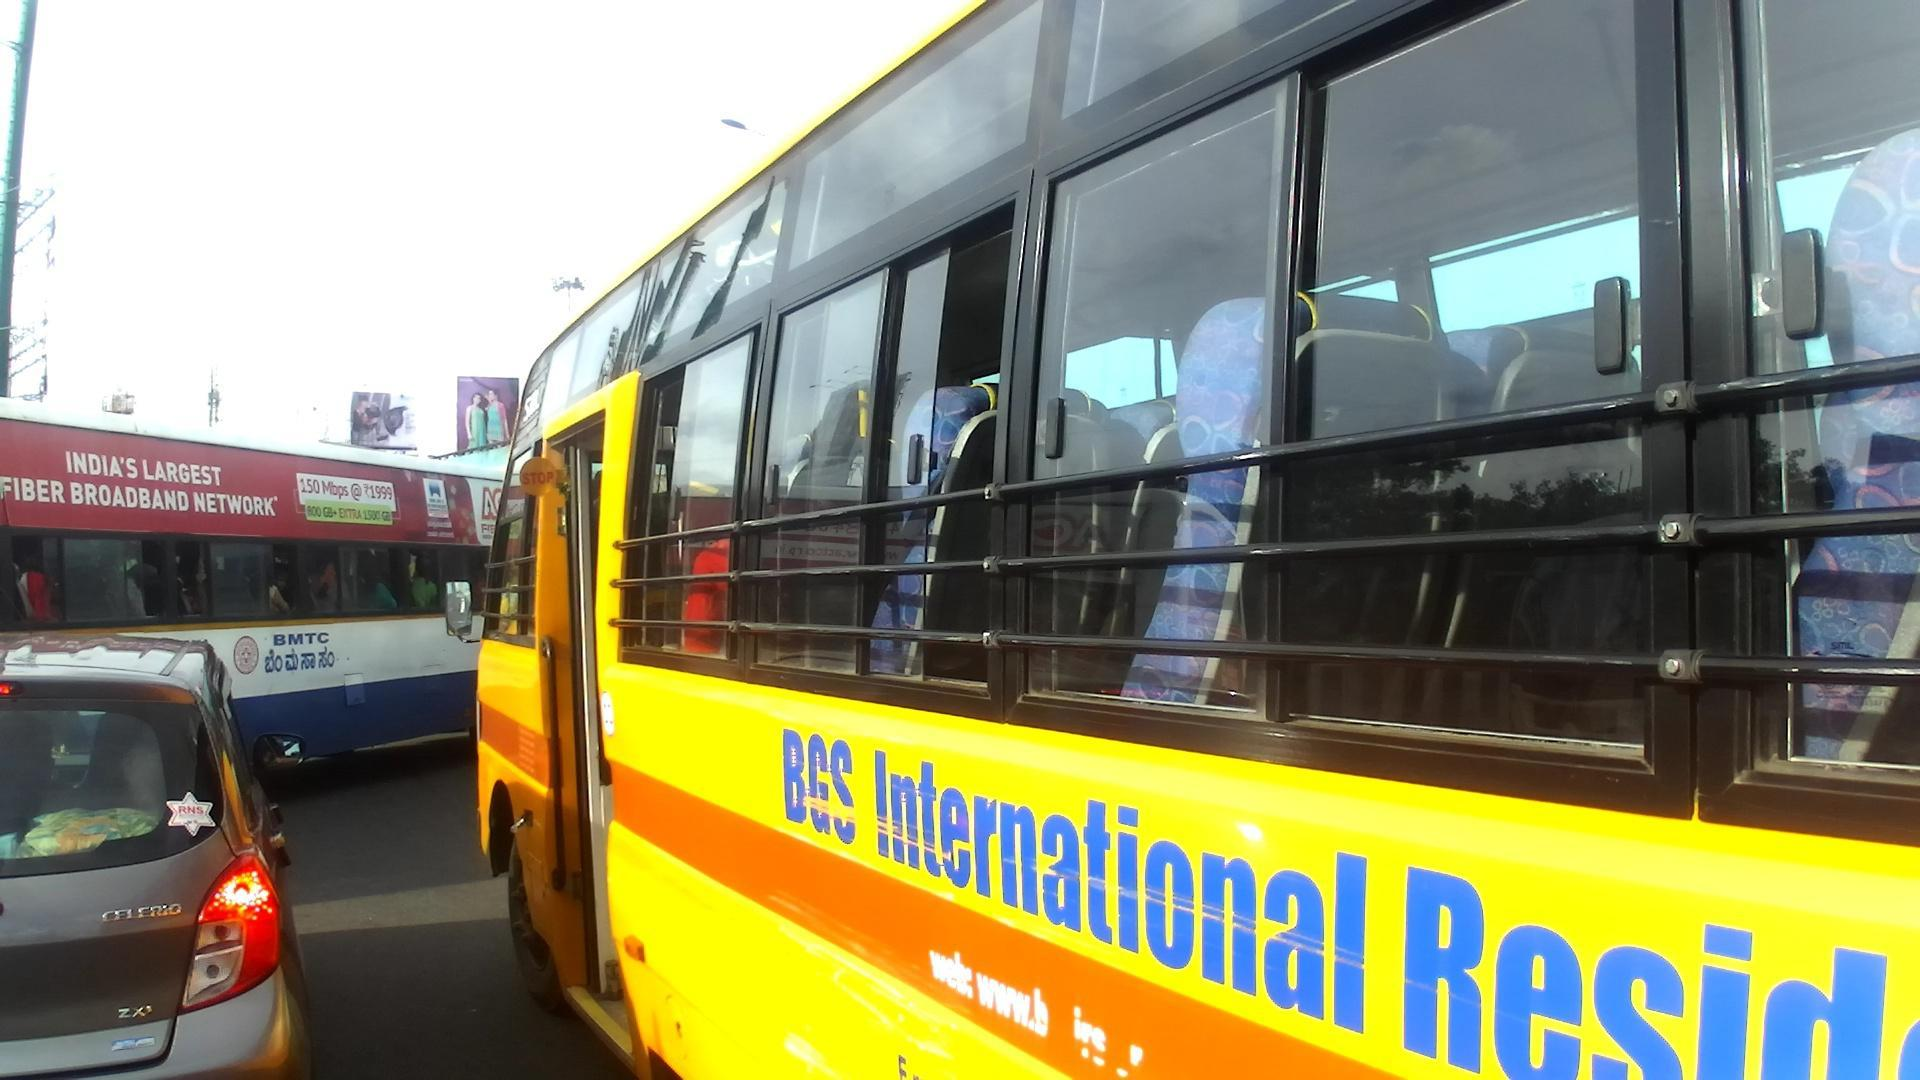off: (0, 0, 1702, 939)
